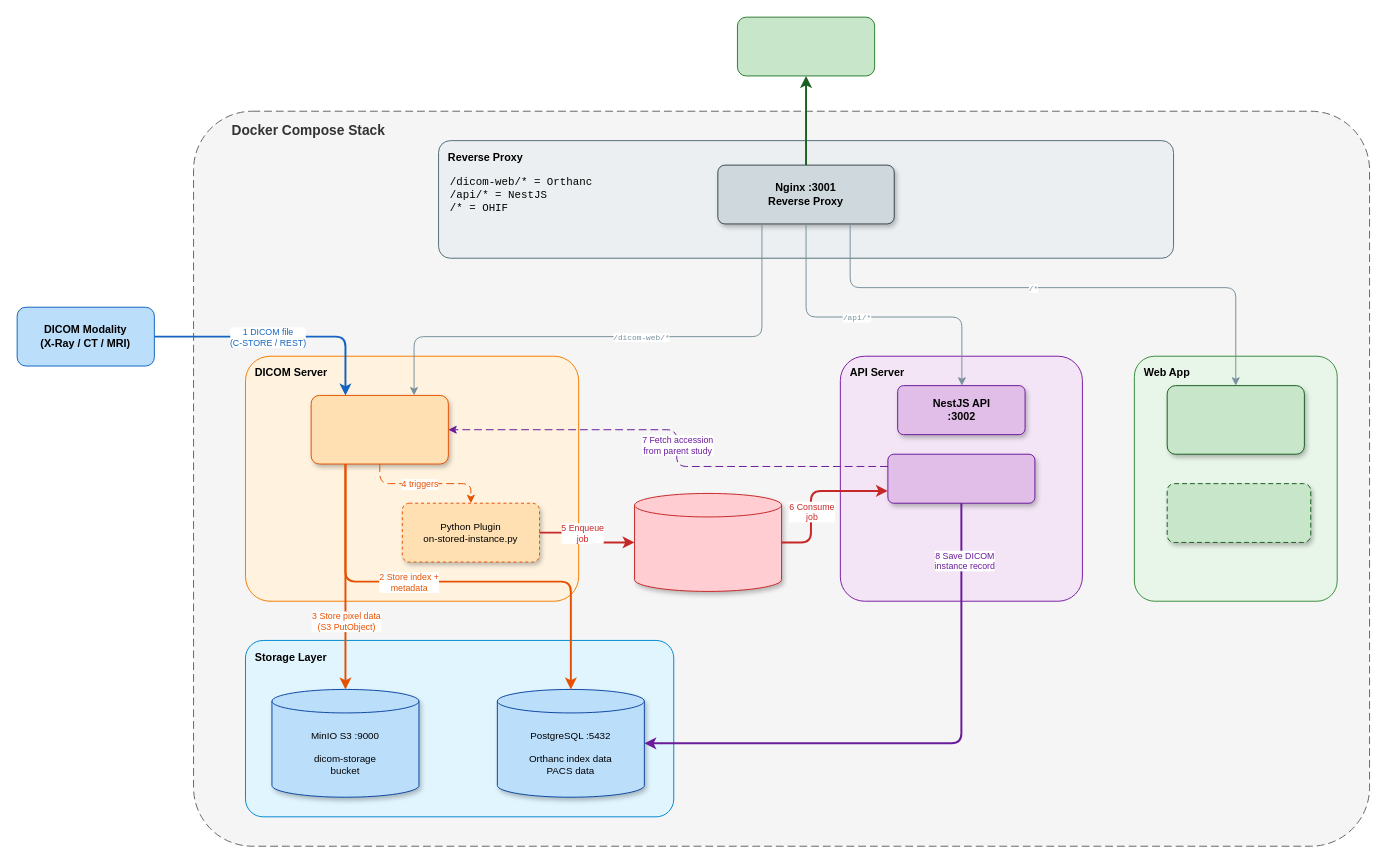
This 1387x863 diagram has some shape labels left out. The centre of each missing label's shape, as x and y in pixels:
Browser :3001: pixel 805 46
BullMQ Worker DicomInstanceProcessor: pixel 962 479
OHIF Viewer :3000 React PWA: pixel 1236 421
Orthanc :8042 / :4242 DICOM PACS: pixel 380 431
Redis :6379 BullMQ queue dicom-instances: pixel 708 543
VCR PACS (new build): pixel 1239 514
